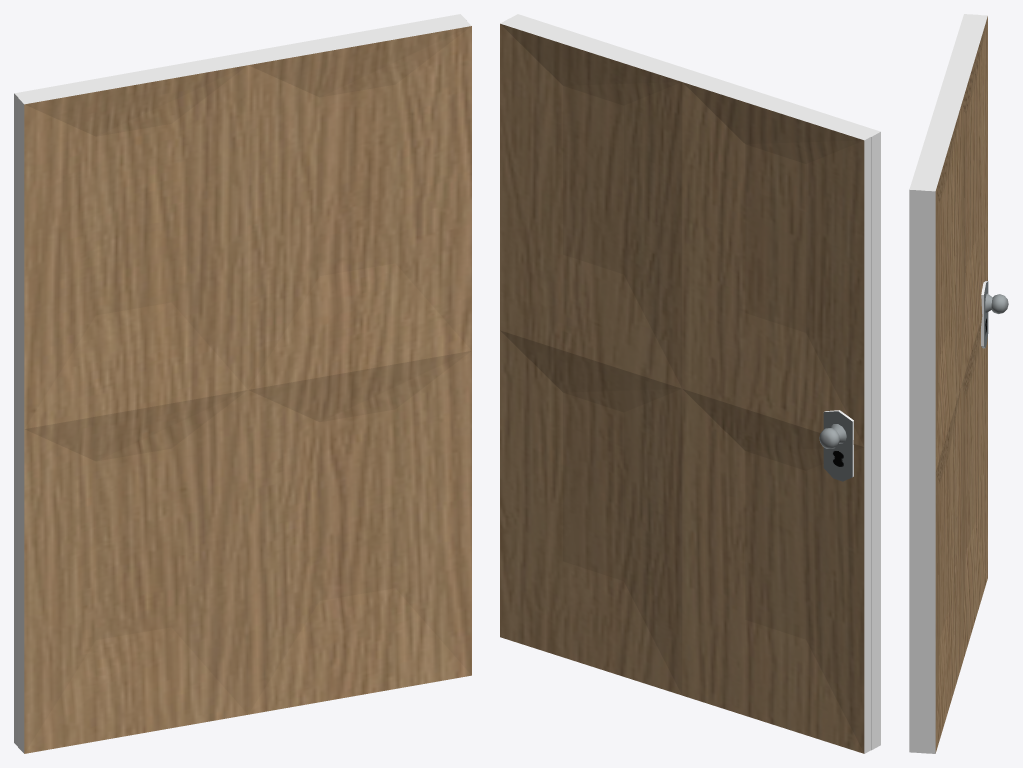
File: ov_door.FBX
3 views of the same model, side by side, from view 1: azimuth 30°, elevation 25°; view 2: azimuth 150°, elevation 25°; view 3: azimuth 270°, elevation 25° (orthographic). The views are drawn at different scales.
Parts seen in each view (by area): view 1: Box001; view 2: Box001; view 3: Box001.
Boxes of the visible parts, x1,y1,x2,y2 form: Box001: (14, 14, 471, 753); Box001: (500, 14, 880, 753); Box001: (909, 14, 1008, 753).
Size of the model in its own units: 245 by 362 by 57.88.
